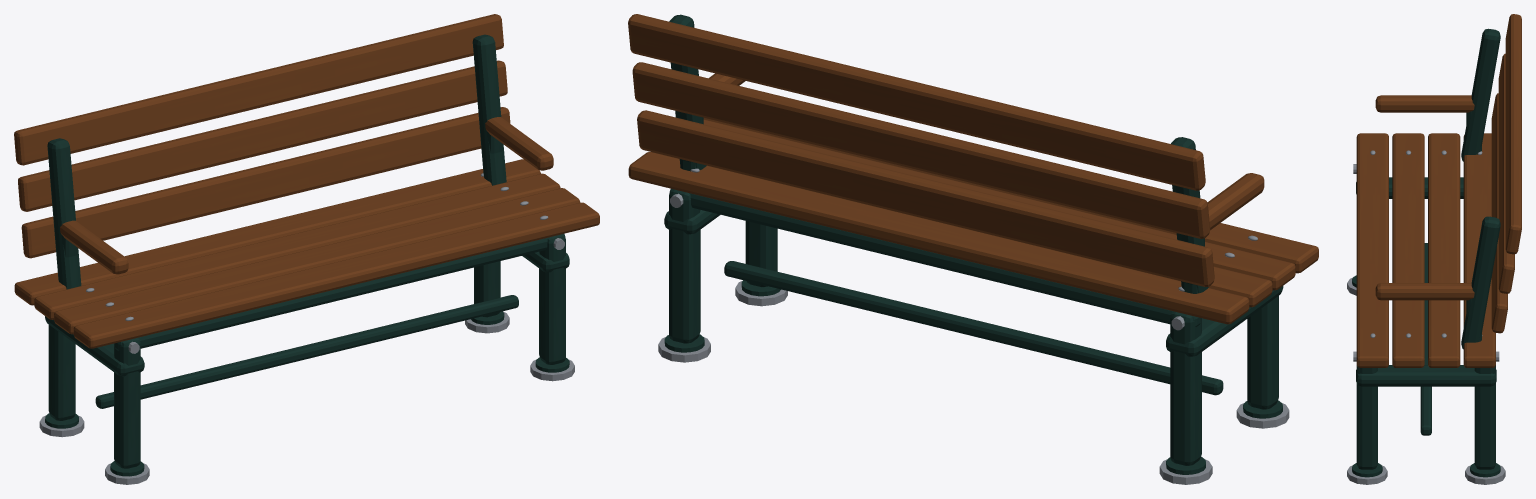
Rendered from prop_bench.glb.
The picture shows the model from 3 angles, left to right: view 1: azimuth 30°, elevation 25°; view 2: azimuth 150°, elevation 25°; view 3: azimuth 270°, elevation 25°; orthographic projection. The views are drawn at different scales.
Visible parts, largest first — view 1: prop_bench_back_slat_2, prop_bench_back_slat_1, prop_bench_back_slat_0, prop_bench_seat_0, prop_bench_seat_1, prop_bench_seat_2, prop_bench_seat_3, prop_bench_stretcher, prop_bench_rail_f, prop_bench_leg_lf, prop_bench_leg_rf, prop_bench_back_post_r (+6 smaller); view 2: prop_bench_back_slat_0, prop_bench_back_slat_2, prop_bench_back_slat_1, prop_bench_seat_3, prop_bench_stretcher, prop_bench_rail_b, prop_bench_seat_1, prop_bench_leg_lb, prop_bench_leg_rb, prop_bench_seat_0, prop_bench_leg_lf, prop_bench_arm_l (+4 smaller); view 3: prop_bench_seat_0, prop_bench_seat_2, prop_bench_seat_1, prop_bench_seat_3, prop_bench_back_slat_2, prop_bench_end_cap_r, prop_bench_back_post_r, prop_bench_back_post_l, prop_bench_back_slat_1, prop_bench_leg_rf, prop_bench_leg_rb, prop_bench_back_slat_0 (+8 smaller).
Boxes of the visible parts, x1,y1,x2,y2 form: prop_bench_back_slat_2: [14, 14, 503, 165]; prop_bench_back_slat_1: [18, 60, 507, 211]; prop_bench_back_slat_0: [21, 107, 510, 258]; prop_bench_seat_0: [73, 202, 599, 348]; prop_bench_seat_1: [54, 188, 580, 334]; prop_bench_seat_2: [34, 173, 560, 319]; prop_bench_seat_3: [14, 159, 540, 305]; prop_bench_stretcher: [95, 295, 518, 408]; prop_bench_rail_f: [114, 234, 565, 350]; prop_bench_leg_lf: [114, 338, 140, 468]; prop_bench_leg_rf: [539, 234, 565, 364]; prop_bench_back_post_r: [472, 34, 506, 185]; prop_bench_back_slat_0: [637, 110, 1214, 286]; prop_bench_back_slat_2: [628, 14, 1205, 190]; prop_bench_back_slat_1: [632, 62, 1210, 238]; prop_bench_seat_3: [628, 152, 1249, 324]; prop_bench_stretcher: [724, 261, 1223, 395]; prop_bench_rail_b: [669, 188, 1200, 326]; prop_bench_seat_1: [703, 119, 1295, 290]; prop_bench_leg_lb: [1170, 311, 1201, 465]; prop_bench_leg_rb: [669, 189, 700, 343]; prop_bench_seat_0: [703, 118, 1318, 273]; prop_bench_leg_lf: [1247, 296, 1278, 409]; prop_bench_arm_l: [1207, 173, 1264, 229]; prop_bench_seat_0: [1356, 133, 1388, 367]; prop_bench_seat_2: [1428, 133, 1460, 367]; prop_bench_seat_1: [1392, 133, 1424, 367]; prop_bench_seat_3: [1463, 133, 1495, 367]; prop_bench_back_slat_2: [1505, 14, 1521, 254]; prop_bench_end_cap_r: [1356, 365, 1496, 386]; prop_bench_back_post_r: [1461, 216, 1500, 349]; prop_bench_back_post_l: [1461, 28, 1500, 161]; prop_bench_back_slat_1: [1498, 53, 1514, 293]; prop_bench_leg_rf: [1356, 365, 1377, 469]; prop_bench_leg_rb: [1474, 365, 1495, 469]; prop_bench_back_slat_0: [1491, 93, 1507, 333].
Bounding box in the file's own units: 1.9 × 1.03 × 0.6221.
3 materials, 3 textured.
